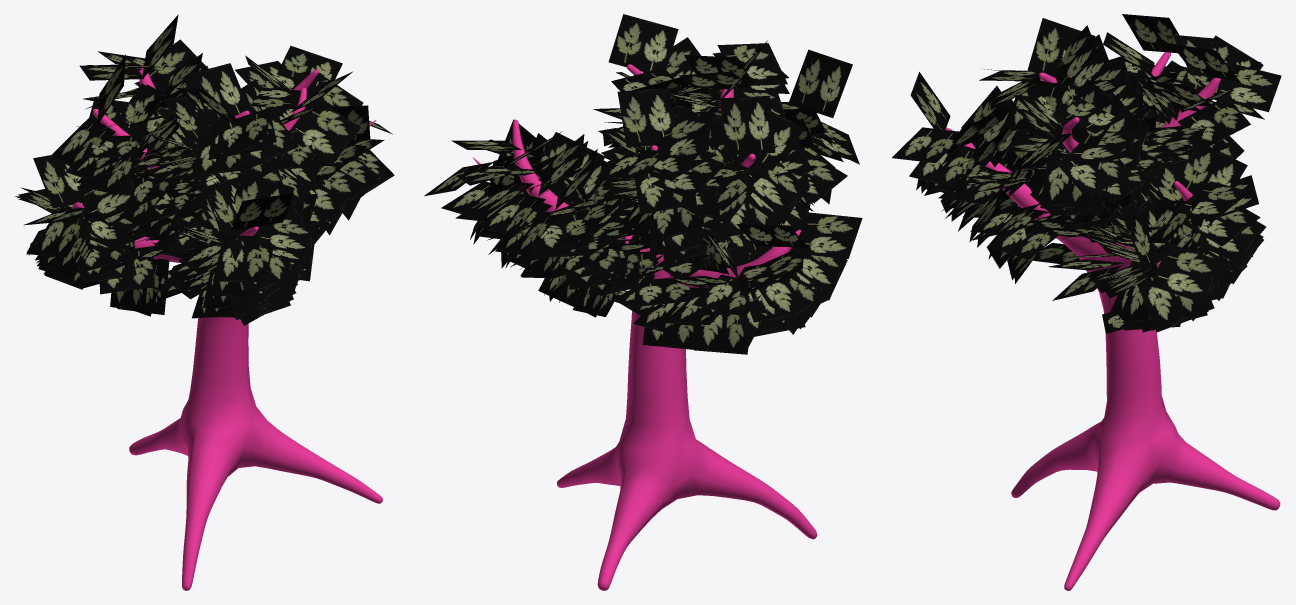
File: TreeUV 1.fbx
3 views of the same model, side by side, from view 1: azimuth 30°, elevation 25°; view 2: azimuth 150°, elevation 25°; view 3: azimuth 270°, elevation 25° (orthographic). The views are drawn at different scales.
Visible parts, largest first — view 1: TreeeeEEE; view 2: TreeeeEEE; view 3: TreeeeEEE.
Boxes of the visible parts, <box> form: TreeeeEEE: <box>15,14,394,590</box>; TreeeeEEE: <box>424,14,862,590</box>; TreeeeEEE: <box>892,14,1281,590</box>.
Size of the model in its own units: 3.62 by 4.38 by 3.13.
